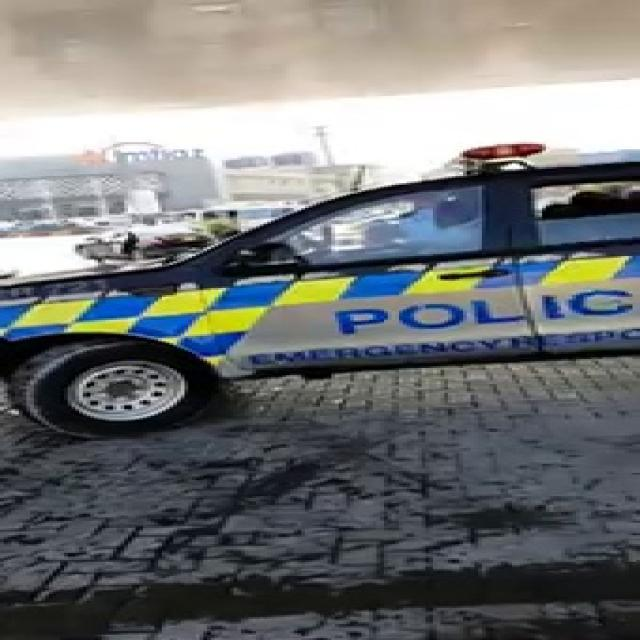police: (0, 165, 640, 416)
